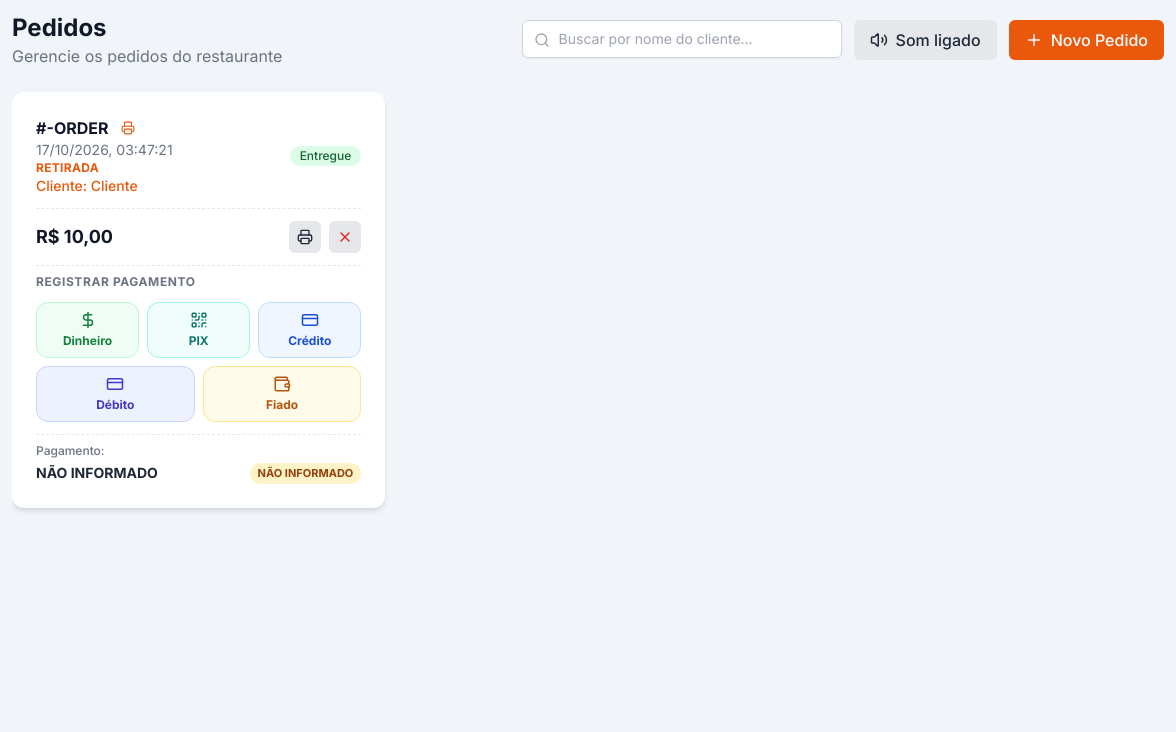
payment request volume › payment Crédito performs one write and only three refresh reads
The width and height of the screenshot is (1176, 732).
Click the button "Crédito": (310, 330) left=258, top=302, right=361, bottom=358
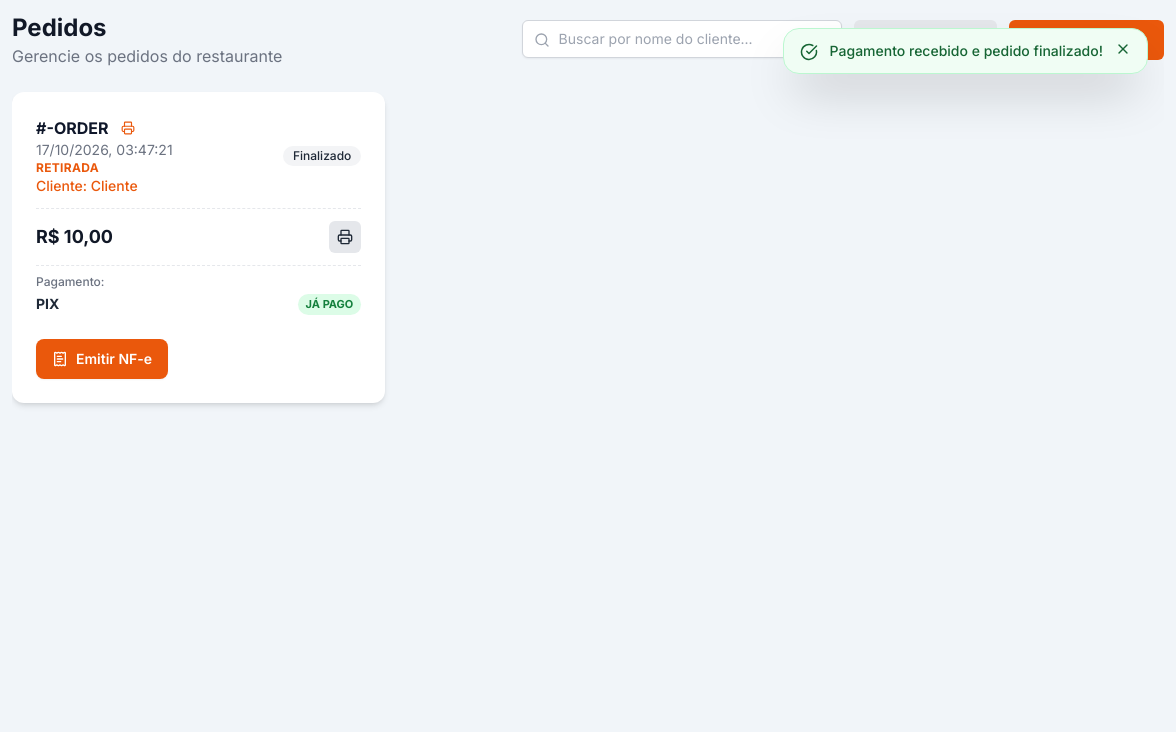
Expected: the button "Crédito" is gone
